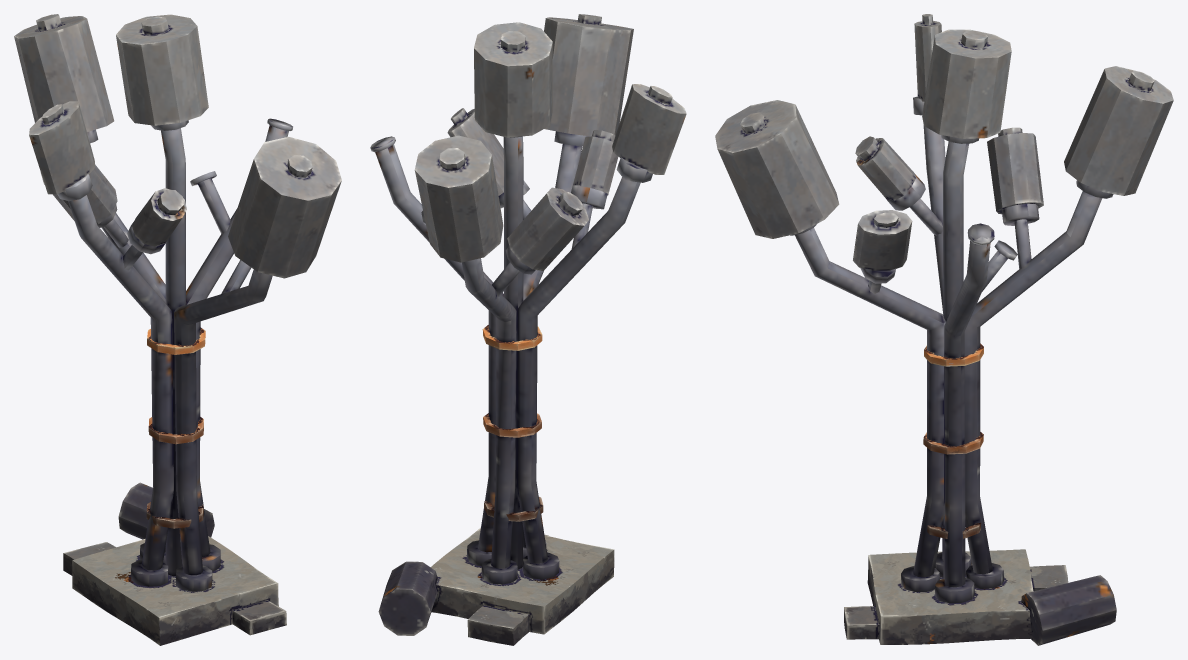
The picture shows the model from 3 angles, left to right: view 1: azimuth 30°, elevation 25°; view 2: azimuth 150°, elevation 25°; view 3: azimuth 270°, elevation 25°; orthographic projection.
Visible parts, largest first — view 1: Mufflers, Pipes, Footing, Lashing; view 2: Mufflers, Pipes, Footing, Lashing; view 3: Mufflers, Pipes, Footing, Lashing.
Part boxes in pixels (x1=…): Mufflers: x1=14, y1=14, x2=341, y2=539; Pipes: x1=57, y1=118, x2=292, y2=591; Footing: x1=63, y1=536, x2=286, y2=645; Lashing: x1=146, y1=327, x2=205, y2=528; Mufflers: x1=378, y1=14, x2=686, y2=635; Pipes: x1=370, y1=131, x2=652, y2=584; Footing: x1=430, y1=527, x2=614, y2=645; Lashing: x1=482, y1=325, x2=543, y2=521; Mufflers: x1=715, y1=14, x2=1173, y2=645; Pipes: x1=790, y1=96, x2=1113, y2=603; Footing: x1=844, y1=549, x2=1068, y2=644; Lashing: x1=923, y1=343, x2=983, y2=538.
Bounding box in the file's own units: 7.35 × 13.95 × 10.1.
Materials: 4 (4 with a texture image).
